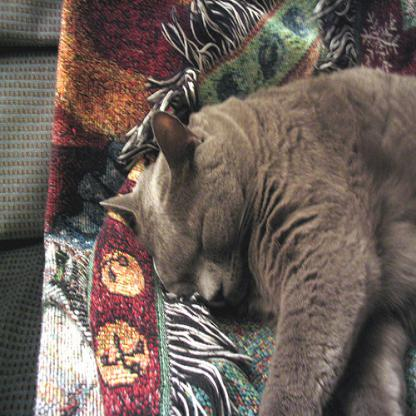cat: (100, 64, 415, 415)
sofa: (0, 0, 415, 415)
